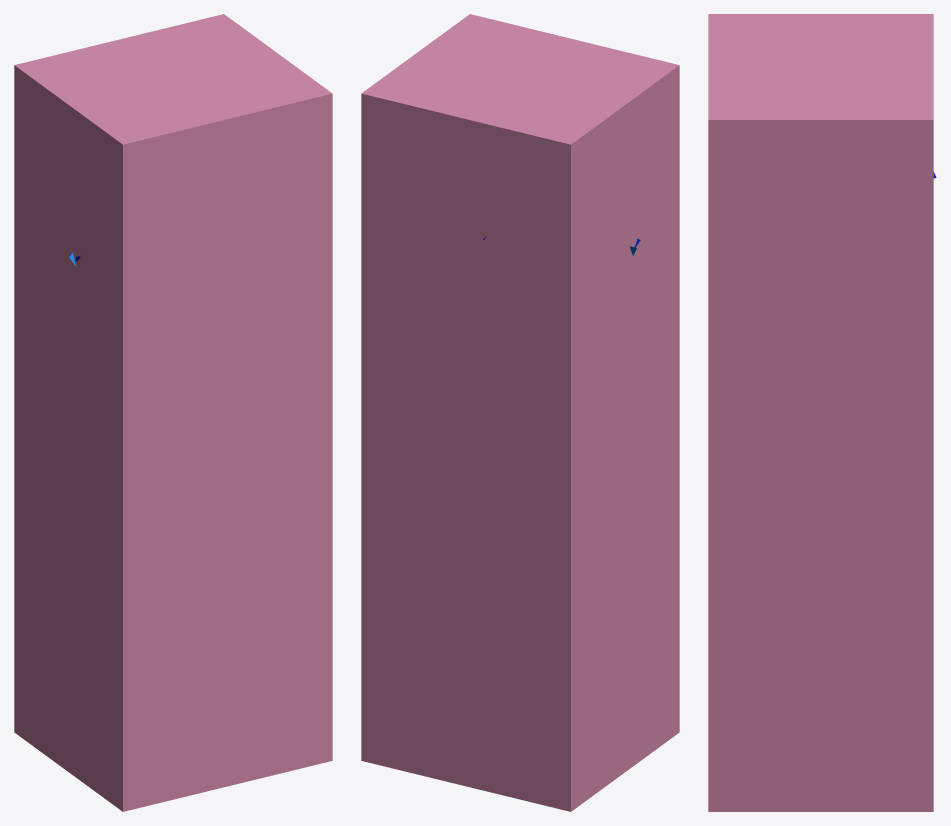
Rendered from tree_aspen_small_low.dae.
3 views of the same model, side by side, from view 1: azimuth 30°, elevation 25°; view 2: azimuth 150°, elevation 25°; view 3: azimuth 270°, elevation 25° (orthographic). The views are drawn at different scales.
Visible parts, largest first — view 1: Untitled; view 2: Untitled; view 3: Untitled.
Part boxes in pixels (x1,y1,x2,y2): Untitled: [14, 14, 332, 811]; Untitled: [361, 14, 679, 811]; Untitled: [708, 14, 933, 811].
Bounding box in the file's own units: 2.62 × 2.32 × 7.95.
